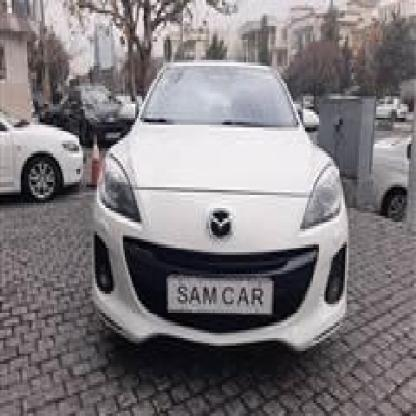Car: (92, 52, 353, 382), (0, 99, 94, 226), (360, 127, 416, 223), (62, 81, 132, 143), (373, 89, 412, 118)
